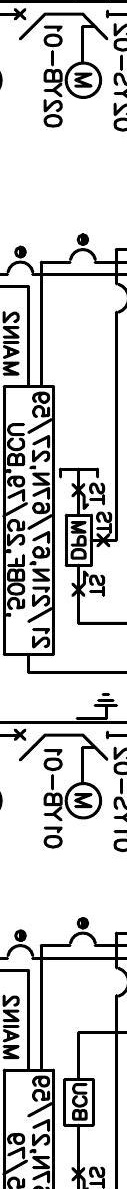115_3ways_ds_w_motor: (64, 692, 119, 820)
115_breaker: (13, 8, 46, 41), (14, 728, 46, 762)
BCU: (62, 1077, 96, 1128)
DPM: (65, 514, 93, 568)
